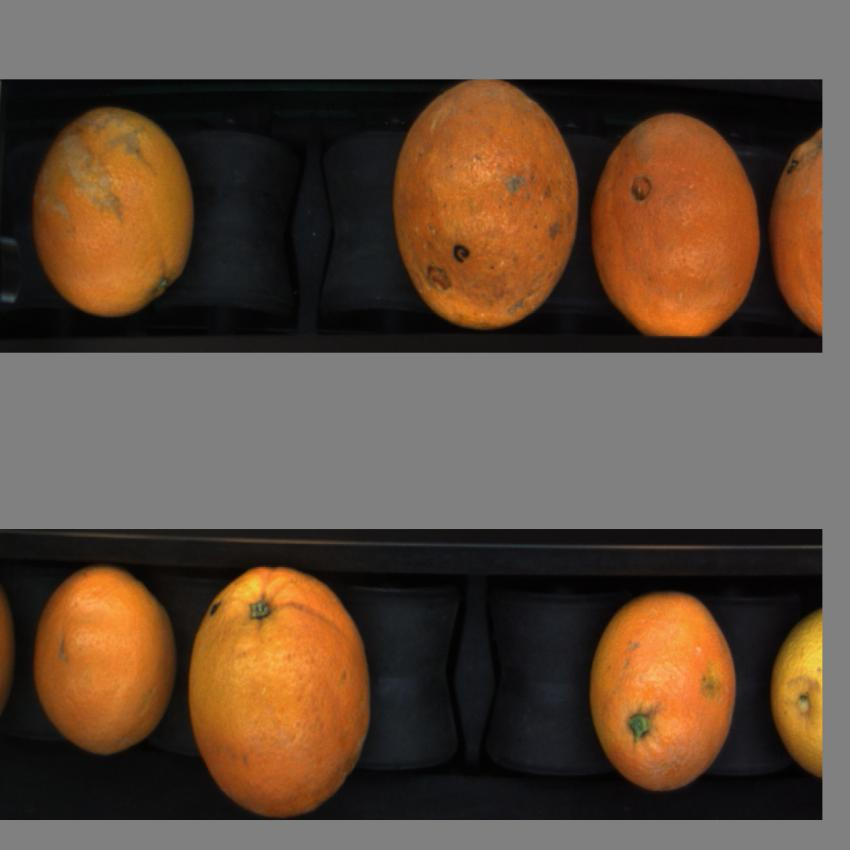Buen estado: (186, 567, 383, 815), (21, 107, 224, 319), (589, 572, 736, 800), (36, 570, 174, 770), (767, 588, 820, 794)
Mal estado: (388, 86, 583, 332), (590, 102, 760, 341), (769, 123, 823, 334)
